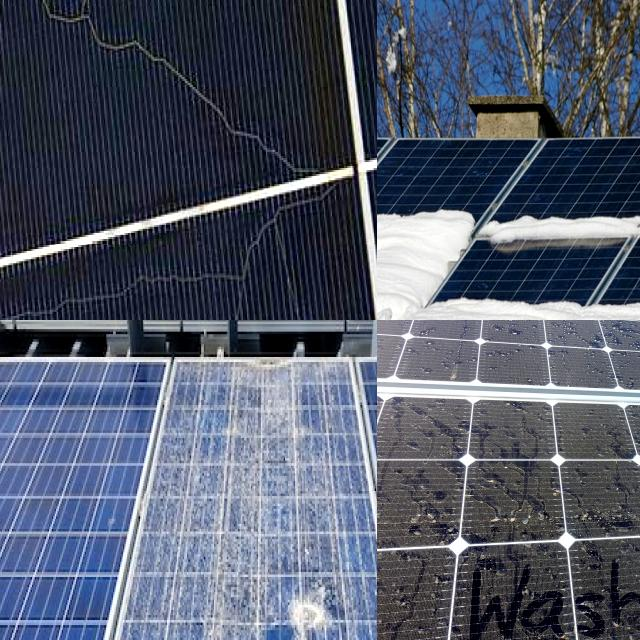dust: (462, 401, 624, 526), (474, 561, 640, 639), (377, 320, 562, 365), (377, 555, 431, 640)
hotspot: (257, 577, 352, 640)
panel: (377, 188, 542, 273), (483, 204, 640, 286), (437, 288, 640, 320)
shadow: (0, 0, 311, 183), (0, 269, 247, 318), (242, 182, 348, 268), (0, 0, 71, 70), (204, 0, 320, 24), (0, 0, 46, 45)
